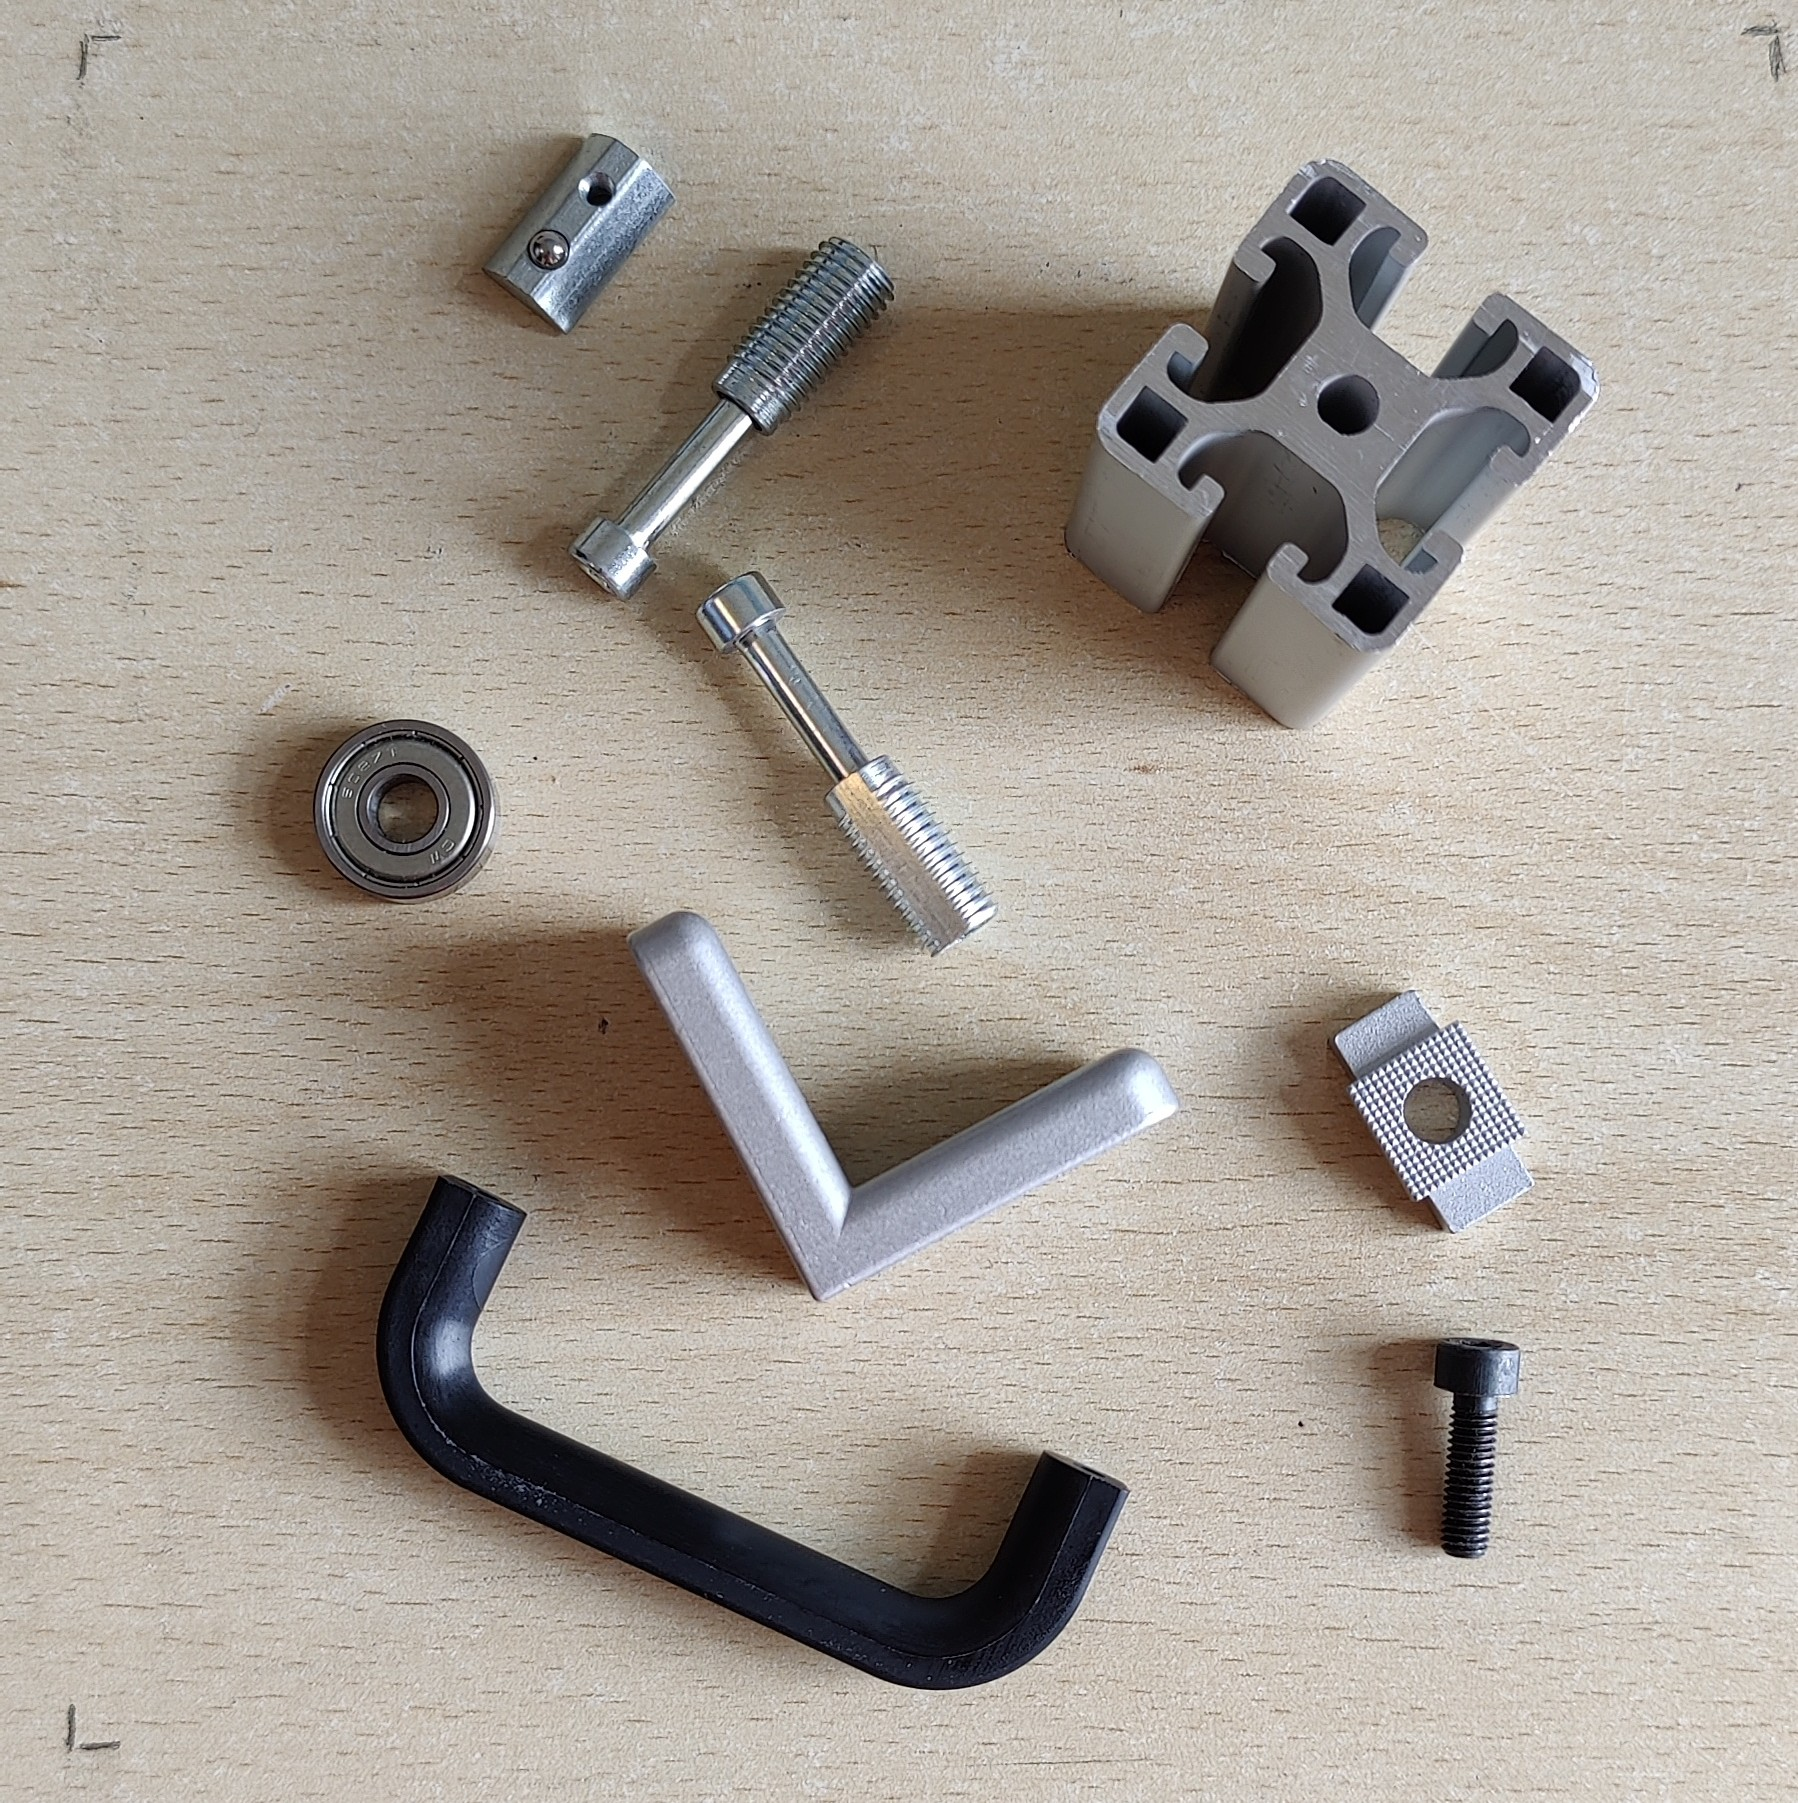Aluminium Extension: (1059, 156, 1604, 734)
Ball Bearing: (310, 718, 502, 906)
Multiwinkel: (624, 911, 1184, 1306)
Pull Handle: (372, 1167, 1134, 1693)
Shoulder Socket Head Cap Screw: (565, 231, 901, 604), (692, 568, 1003, 957)
Socket Head Cap Screw: (1428, 1334, 1525, 1559)
T Nut Square: (1325, 988, 1539, 1233)
T Spring Nut: (481, 128, 678, 336)
